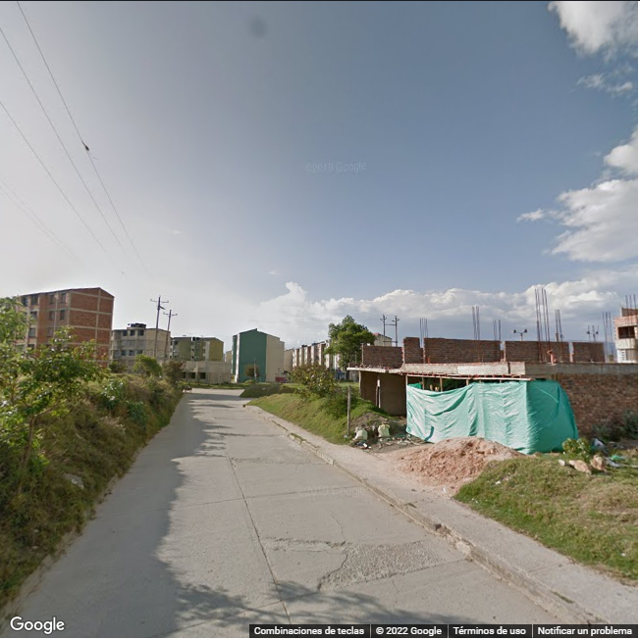D10: (268, 544, 353, 555)
D40: (319, 538, 436, 599)
